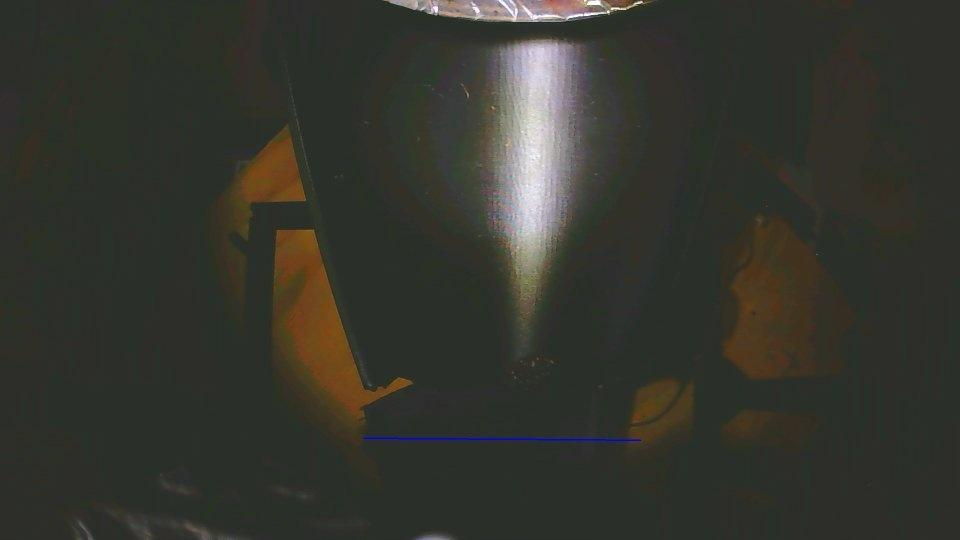berry: (507, 354, 555, 388)
